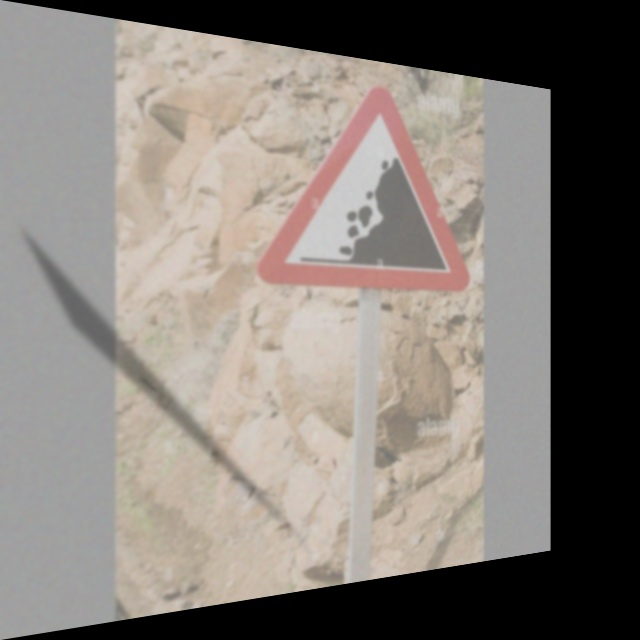Falling_Rocks: (265, 77, 469, 290)
